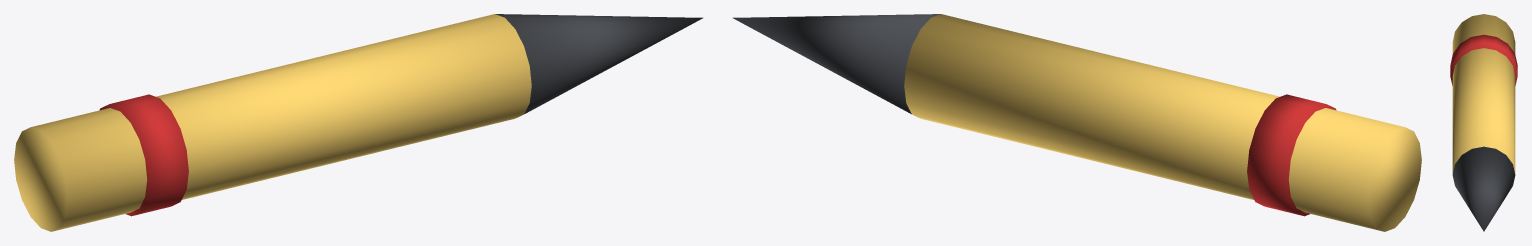
The model's file is shell-mk2.glb.
3 renders of one model, left to right at view 1: azimuth 30°, elevation 25°; view 2: azimuth 150°, elevation 25°; view 3: azimuth 270°, elevation 25°, orthographic. The views are drawn at different scales.
Parts seen in each view (by area): view 1: MK2_Shell_Body, MK2_Shell_Tip, MK2_Shell_Band; view 2: MK2_Shell_Body, MK2_Shell_Tip, MK2_Shell_Band; view 3: MK2_Shell_Body, MK2_Shell_Tip, MK2_Shell_Band.
Boxes of the visible parts, <box> form: MK2_Shell_Body: <box>14,14,531,231</box>; MK2_Shell_Tip: <box>495,14,702,114</box>; MK2_Shell_Band: <box>99,94,188,216</box>; MK2_Shell_Body: <box>904,14,1421,231</box>; MK2_Shell_Tip: <box>733,14,940,114</box>; MK2_Shell_Band: <box>1247,94,1336,216</box>; MK2_Shell_Body: <box>1452,14,1515,173</box>; MK2_Shell_Tip: <box>1452,146,1515,231</box>; MK2_Shell_Band: <box>1450,34,1517,85</box>.
Bounding box in the file's own units: 1 × 0.15 × 0.15.
